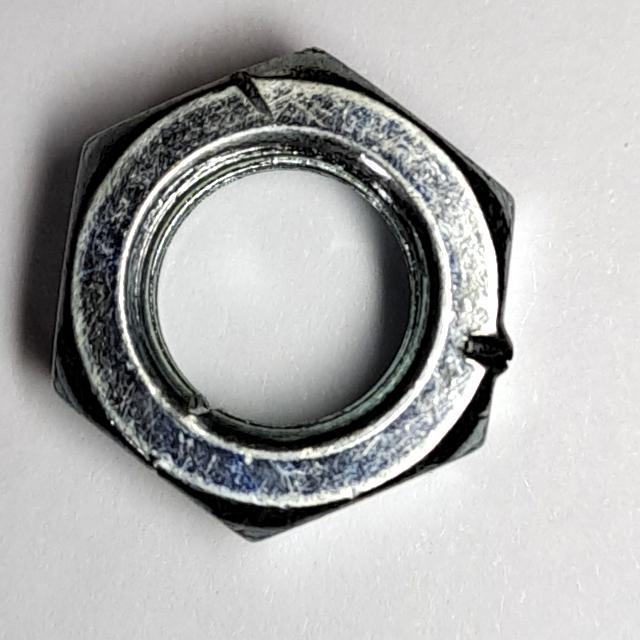Scratches: (36, 36, 539, 561)
